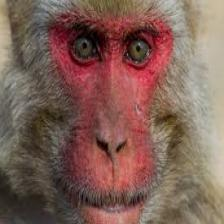monkey: (0, 0, 220, 223)
